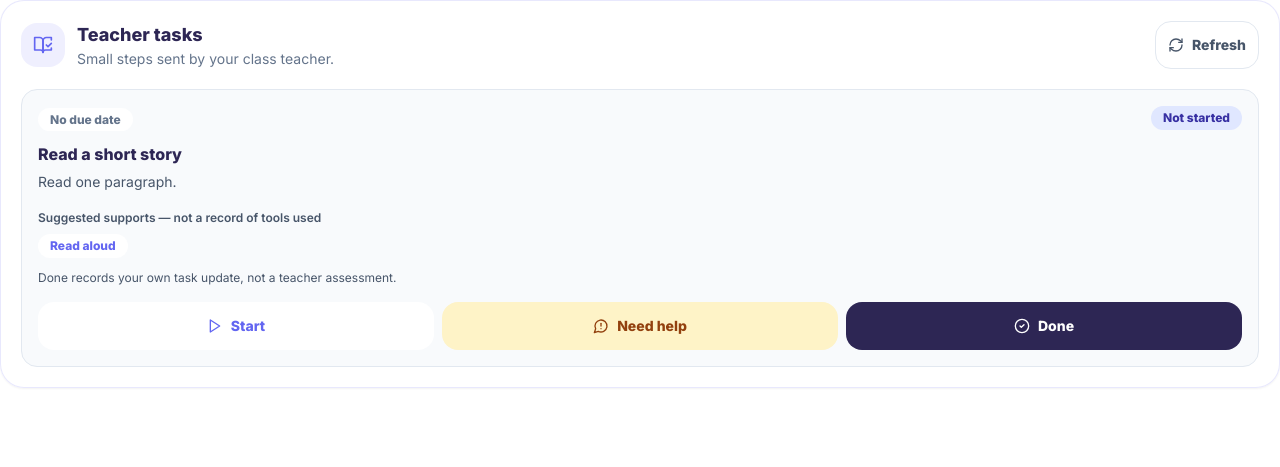
Test: uncertain save preserves the last confirmed status and requires refresh before retry
Click the button "Done" at (1044, 326), box [846,302,1242,350]
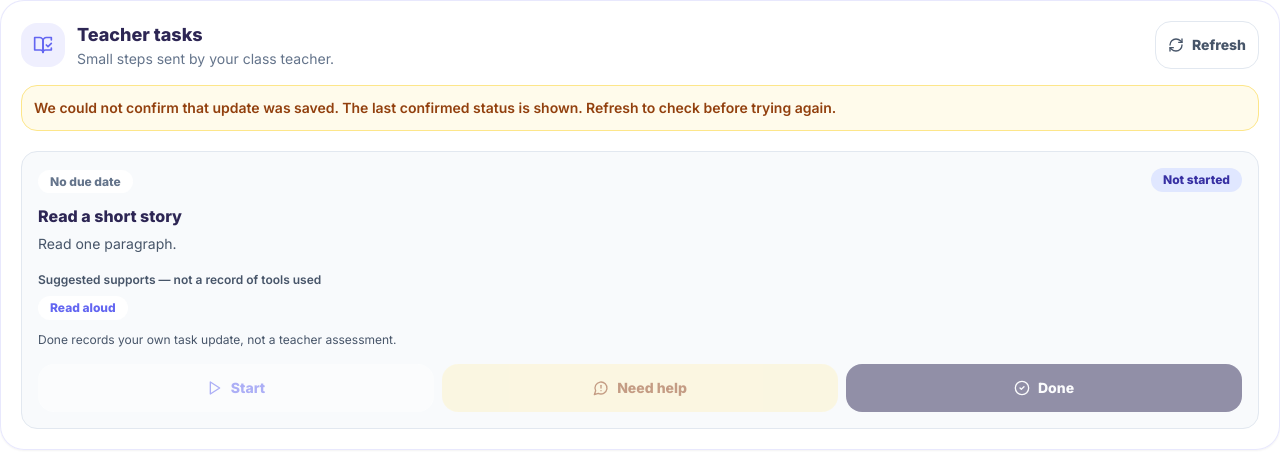
Expected: the text "Not started" is shown, [1151,168,1242,192]
Result: the message shows "could not confirm" at [34,99,836,116]
Result: the button "Done" is disabled at [846,364,1242,412]
Click the button "Refresh" at (1207, 45), box [1155,21,1259,69]
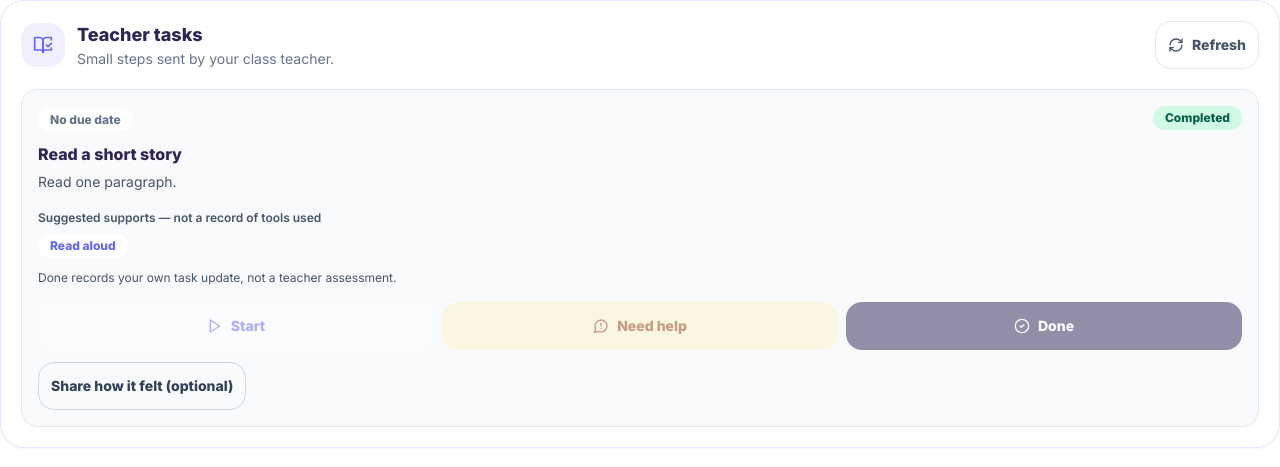
Result: the text "Completed" is shown at [1153,106,1242,130]
